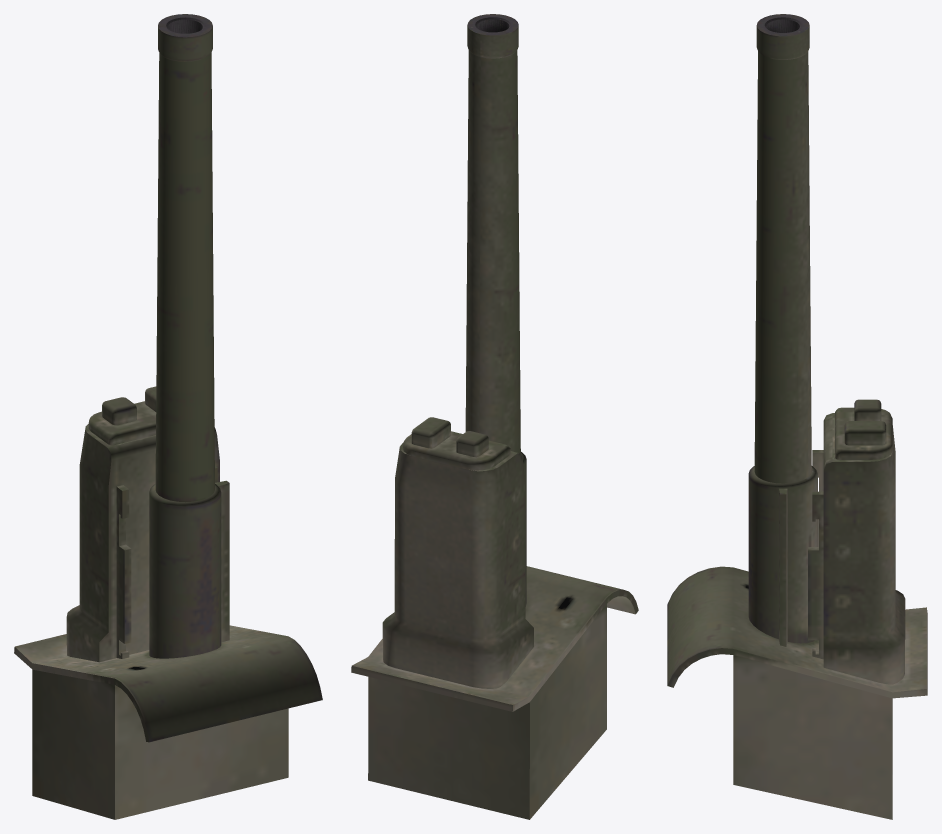
Rendered from Gun_03.glb.
The picture shows the model from 3 angles, left to right: view 1: azimuth 30°, elevation 25°; view 2: azimuth 150°, elevation 25°; view 3: azimuth 270°, elevation 25°; orthographic projection. The views are drawn at different scales.
Parts seen in each view (by area): view 1: set_0_group_0; view 2: set_0_group_0; view 3: set_0_group_0.
Boxes of the visible parts, x1,y1,x2,y2 form: set_0_group_0: [14, 14, 322, 819]; set_0_group_0: [351, 14, 638, 819]; set_0_group_0: [667, 14, 927, 819].
Bounding box in the file's own units: 0.4344 × 1.89 × 0.5868.
Materials: 1 (1 with a texture image).
